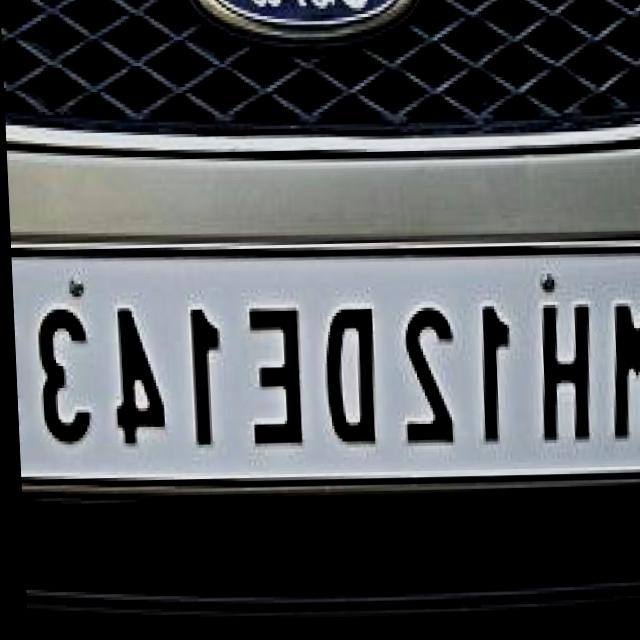1: (182, 306, 228, 452), (471, 306, 516, 450)
2: (392, 305, 463, 448)
3: (31, 309, 90, 453)
4: (102, 306, 160, 450)
d: (317, 310, 379, 449)
e: (237, 303, 306, 451)
h: (529, 300, 594, 451)
m: (606, 296, 640, 444)
